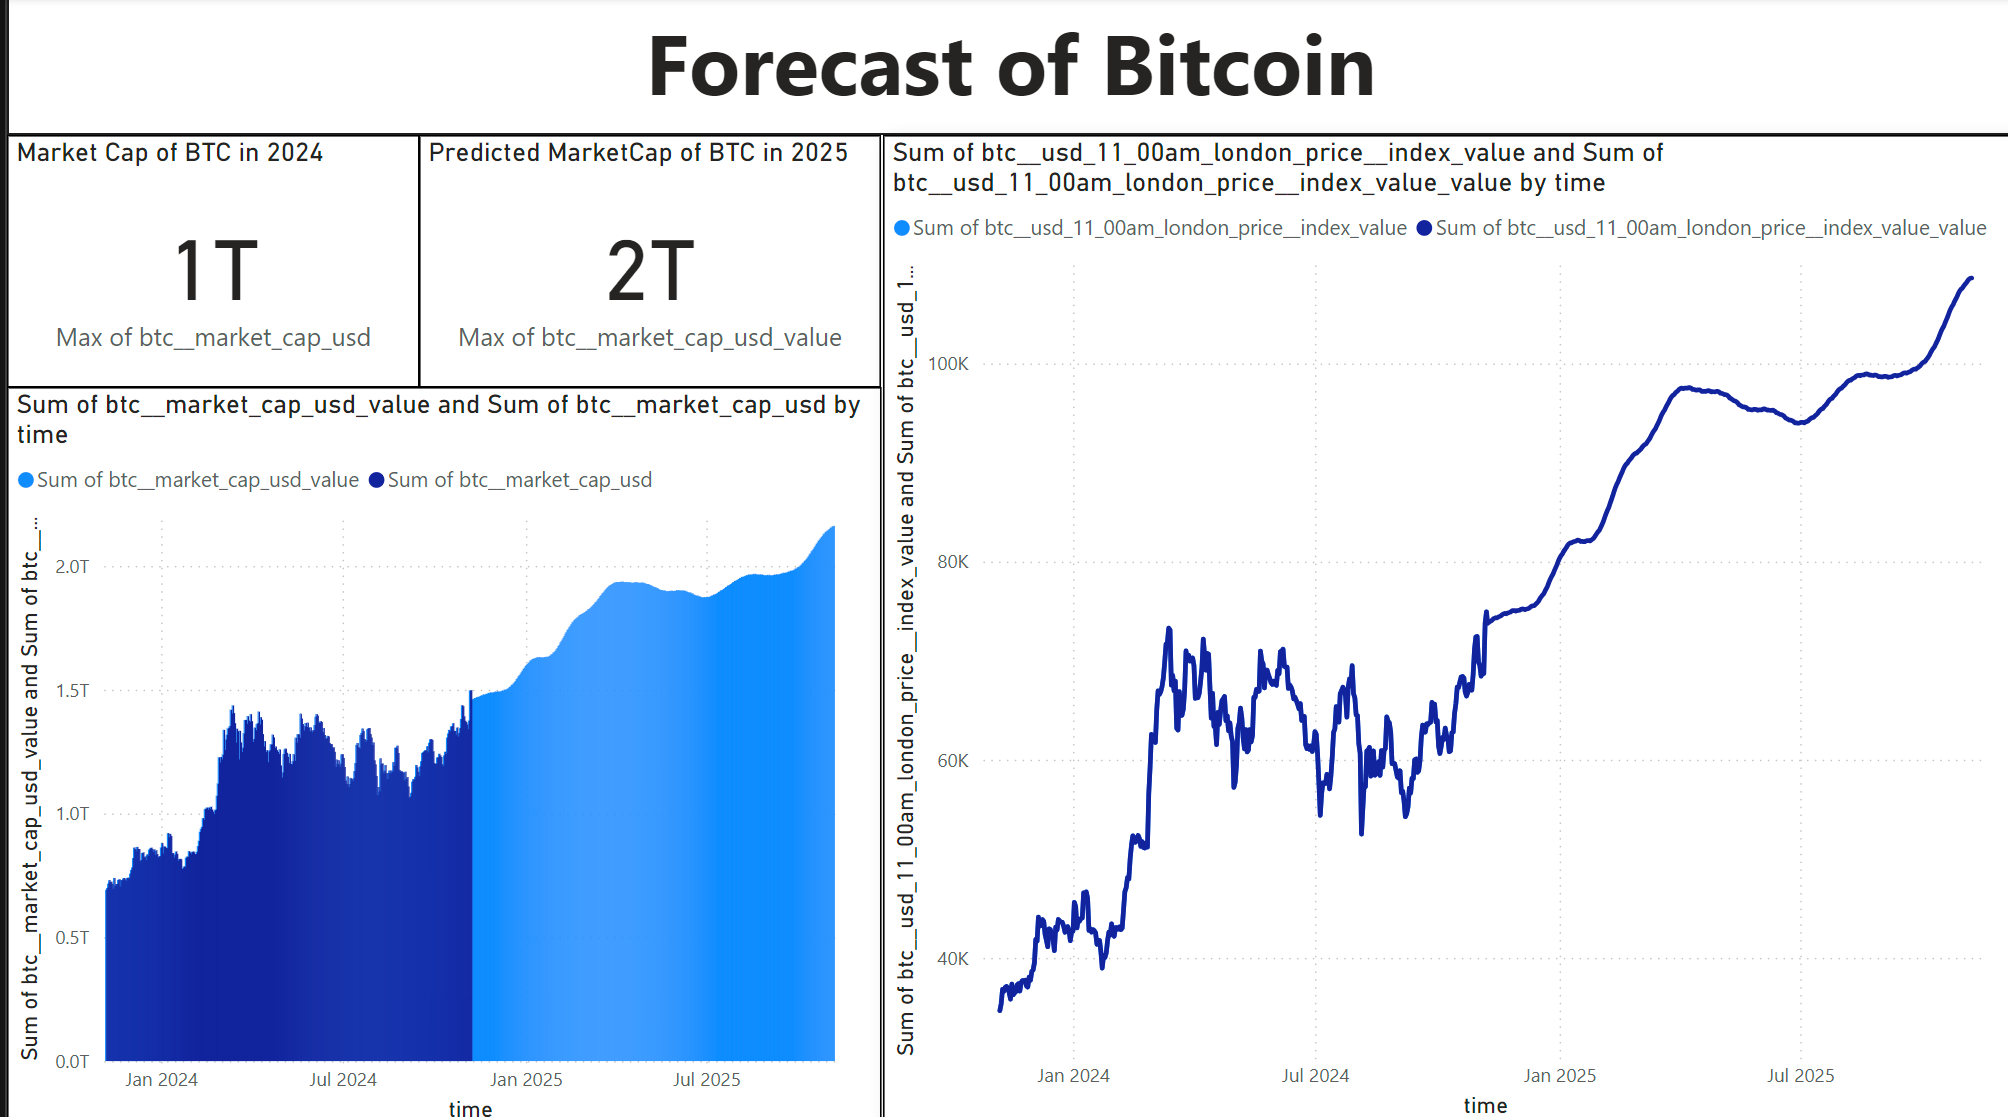

Layout of this report page (visuals, bound fields, positions):
{"tool":"powerbi","page":{"name":"BTC","canvas":[1280,720],"ordinal":0},"visuals":[{"type":"card","title":"Market Cap of BTC in 2024","fields":{"Values":["Max(cleaned_dataset.btc__market_cap_usd)"]},"box":[0,87.7,263.1,160.8],"z":0},{"type":"card","title":"Predicted MarketCap of BTC in 2025","fields":{"Values":["Max(prophet_historical_and_next_year.btc__market_cap_usd_value)"]},"box":[263.1,87.7,294.4,160.8],"z":1},{"type":"textbox","box":[0,0,1280,87.7],"z":3},{"type":"clusteredColumnChart","fields":{"Y":["Sum(prophet_historical_and_next_year.btc__market_cap_usd_value)","Sum(cleaned_dataset.btc__market_cap_usd)"],"Category":["prophet_historical_and_next_year.time"]},"box":[0,248.5,557.5,474],"z":4},{"type":"lineChart","fields":{"Y":["Sum(cleaned_dataset.btc__usd_11_00am_london_price__index_value)","Sum(prophet_historical_and_next_year.btc__usd_11_00am_london_price__index_value_value)"],"Category":["prophet_historical_and_next_year.time"]},"box":[558,88,722,632],"z":5}]}

Visuals, with their boxes in screenshot pixels (x1, y1, x2, y2), scaled from the page's 1280x720 canvas onto the 2008x1117 screenshot:
"Market Cap of BTC in 2024" card: box=[0, 136, 413, 386]
"Predicted MarketCap of BTC in 2025" card: box=[413, 136, 875, 386]
textbox: box=[0, 0, 2007, 136]
clusteredColumnChart - Sum(prophet_historical_and_next_year.btc__market_cap_usd_value) x Sum(cleaned_dataset.btc__market_cap_usd): box=[0, 386, 875, 1116]
lineChart - Sum(cleaned_dataset.btc__usd_11_00am_london_price__index_value) x Sum(prophet_historical_and_next_year.btc__usd_11_00am_london_price__index_value_value): box=[875, 137, 2007, 1116]
